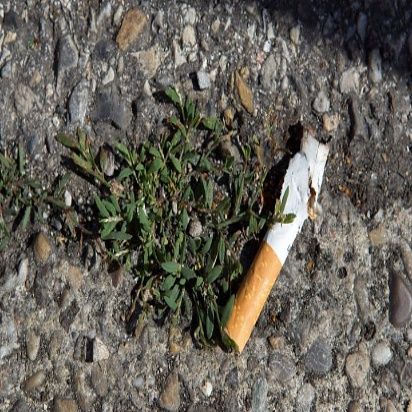cigarette: (219, 124, 333, 368)
